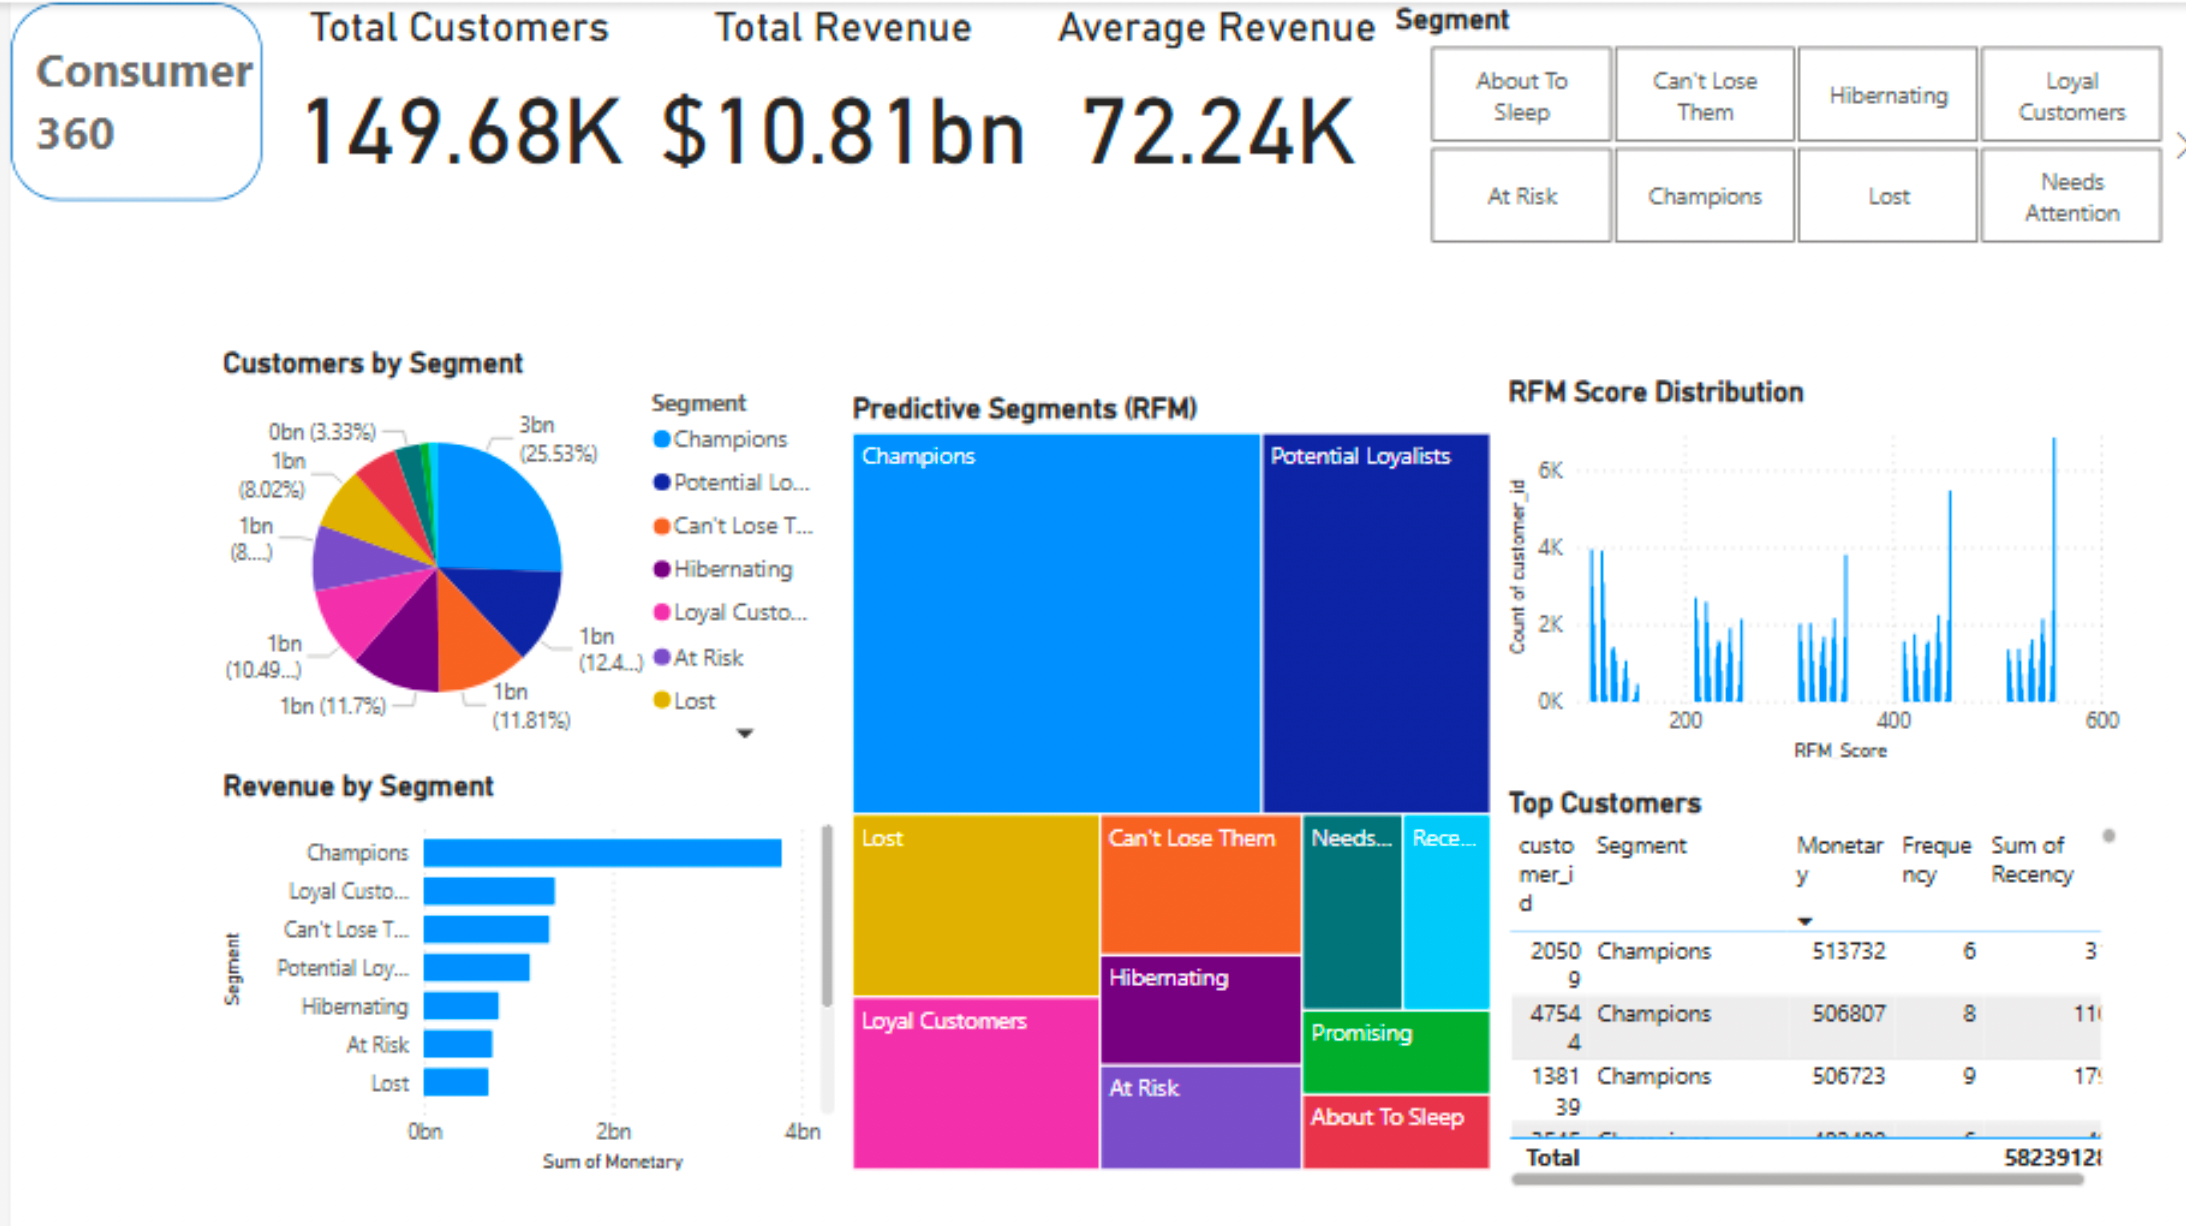

The dashboard page shown, as its layout file describes it:
{"tool":"powerbi","page":{"name":"Page 1","canvas":[1280,720],"ordinal":0},"visuals":[{"type":"pieChart","title":"Customers by Segment","fields":{"Category":["rfm_customer_segments.Segment"],"Y":["Sum(rfm_customer_segments.customer_id)"]},"box":[119.6,200,366.7,239.2],"z":0},{"type":"treemap","title":"Predictive Segments (RFM)","fields":{"Group":["rfm_customer_segments.Segment"],"Values":["Sum(rfm_customer_segments.RFM_Score)"]},"box":[486.3,227.5,382.4,458.8],"z":1000},{"type":"clusteredBarChart","title":"Revenue by Segment","fields":{"Y":["Sum(rfm_customer_segments.Monetary)"],"Category":["rfm_customer_segments.Segment"]},"box":[119.6,447.1,366.7,239.2],"z":2000},{"type":"tableEx","title":"Top Customers","fields":{"Values":["rfm_customer_segments.customer_id","rfm_customer_segments.Segment","rfm_customer_segments.Monetary","rfm_customer_segments.Frequency","Sum(rfm_customer_segments.Recency)"]},"box":[868.6,456.9,364.7,239.2],"z":3000},{"type":"columnChart","title":"RFM Score Distribution","fields":{"Category":["rfm_customer_segments.RFM_Score"],"Y":["Count(rfm_customer_segments.customer_id)"]},"box":[868.6,217.6,366.7,229.4],"z":4000},{"type":"card","title":"Total Customers","fields":{"Values":["Count(rfm_customer_segments.customer_id)"]},"box":[156.9,0,209.8,107.8],"z":4001},{"type":"card","title":"Total Revenue","fields":{"Values":["Sum(rfm_customer_segments.Monetary)"]},"box":[366.7,0,237.3,107.8],"z":4002},{"type":"card","title":"Average Revenue","fields":{"Values":["Avg(rfm_customer_segments.Monetary)"]},"box":[603.9,0,200,107.8],"z":4003},{"type":"slicer","title":"Segment","fields":{"Values":["rfm_customer_segments.Segment"]},"box":[803.9,0,476.5,147.1],"z":4004},{"type":"textbox","box":[9.8,15.7,147.1,86.3],"z":4005},{"type":"shape","box":[0,0,147.1,115.7],"z":4006}]}

Visuals, with their boxes in screenshot pixels (x1, y1, x2, y2), scaled from the page's 1280x720 canvas onto the 2186x1226 screenshot:
"Customers by Segment" pieChart: bbox=(204, 341, 831, 748)
"Predictive Segments (RFM)" treemap: bbox=(831, 387, 1484, 1169)
"Revenue by Segment" clusteredBarChart: bbox=(204, 761, 831, 1169)
"Top Customers" tableEx: bbox=(1483, 778, 2106, 1185)
"RFM Score Distribution" columnChart: bbox=(1483, 371, 2110, 761)
"Total Customers" card: bbox=(268, 0, 626, 184)
"Total Revenue" card: bbox=(626, 0, 1032, 184)
"Average Revenue" card: bbox=(1031, 0, 1373, 184)
"Segment" slicer: bbox=(1373, 0, 2185, 250)
textbox: bbox=(17, 27, 268, 174)
shape: bbox=(0, 0, 251, 197)
